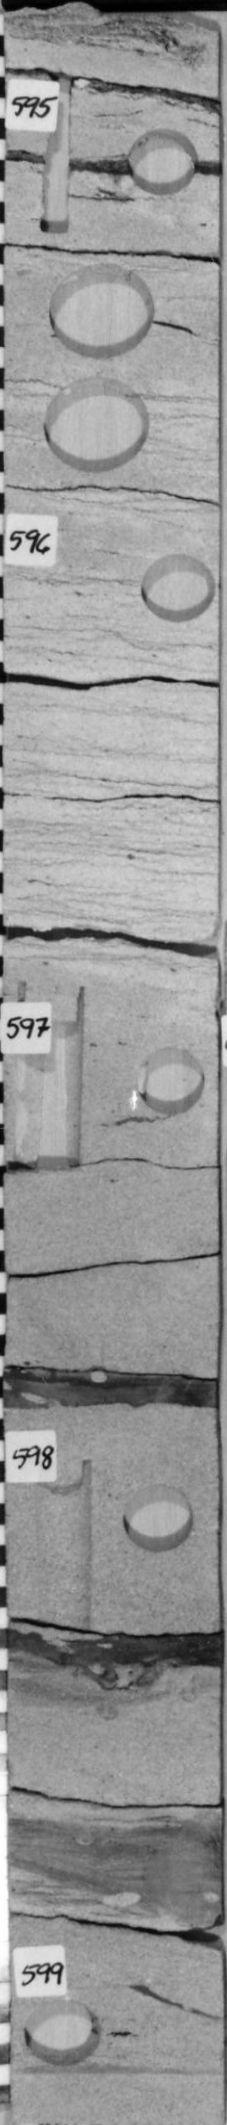hplug: (18, 1994, 107, 2074), (114, 1479, 203, 1559), (139, 543, 217, 626), (118, 122, 205, 197), (130, 1039, 209, 1118)
scal: (42, 262, 158, 363), (39, 374, 151, 474)
vplug: (10, 974, 88, 1172), (23, 1464, 94, 1630), (35, 72, 90, 234)
